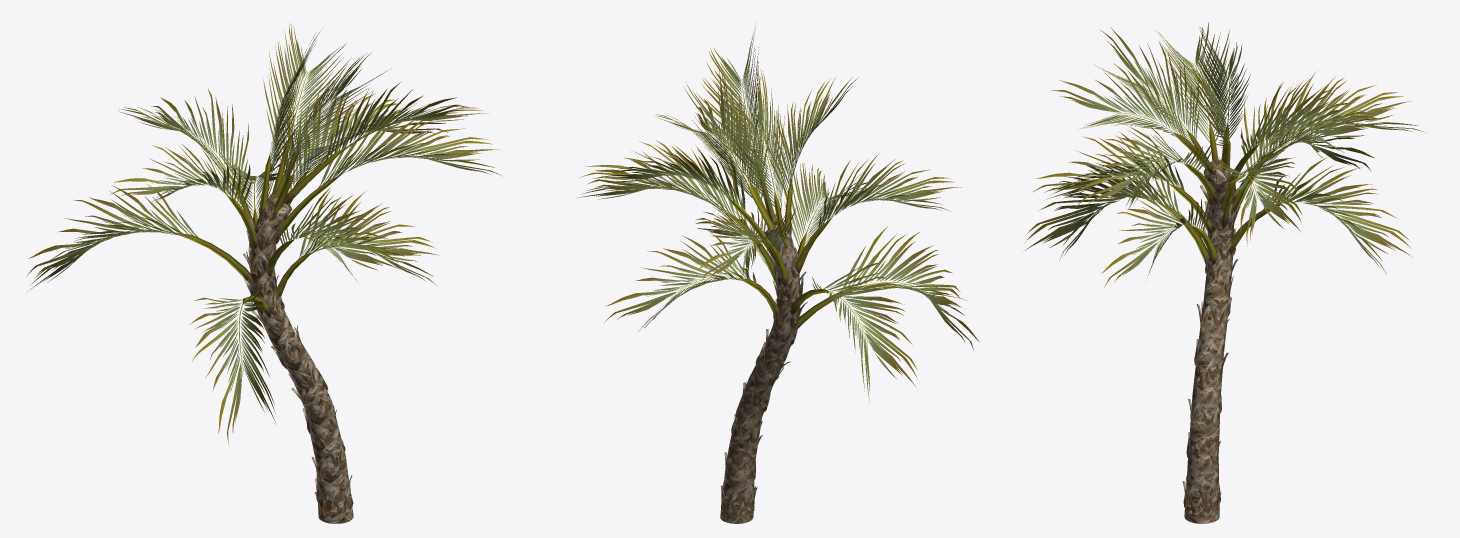
The model's file is Palmforty.obj.
The picture shows the model from 3 angles, left to right: view 1: azimuth 30°, elevation 25°; view 2: azimuth 150°, elevation 25°; view 3: azimuth 270°, elevation 25°; orthographic projection. The views are drawn at different scales.
Parts seen in each view (by area): view 1: curly palm leaf, palm07, frond stem, barkpalm; view 2: curly palm leaf, palm07, frond stem, barkpalm; view 3: curly palm leaf, palm07, frond stem, barkpalm.
Boxes of the visible parts, x1,y1,x2,y2 form: curly palm leaf: (26,23,501,447); palm07: (250,194,353,523); frond stem: (176,140,347,317); barkpalm: (243,218,353,516); curly palm leaf: (576,23,979,403); palm07: (720,223,799,523); frond stem: (726,147,867,330); barkpalm: (720,247,807,517); curly palm leaf: (1024,22,1424,287); palm07: (1184,159,1233,523); frond stem: (1158,122,1282,265); barkpalm: (1182,184,1240,514).
Bounding box in the file's own units: 221 × 256 × 201.
4 materials, 4 textured.
